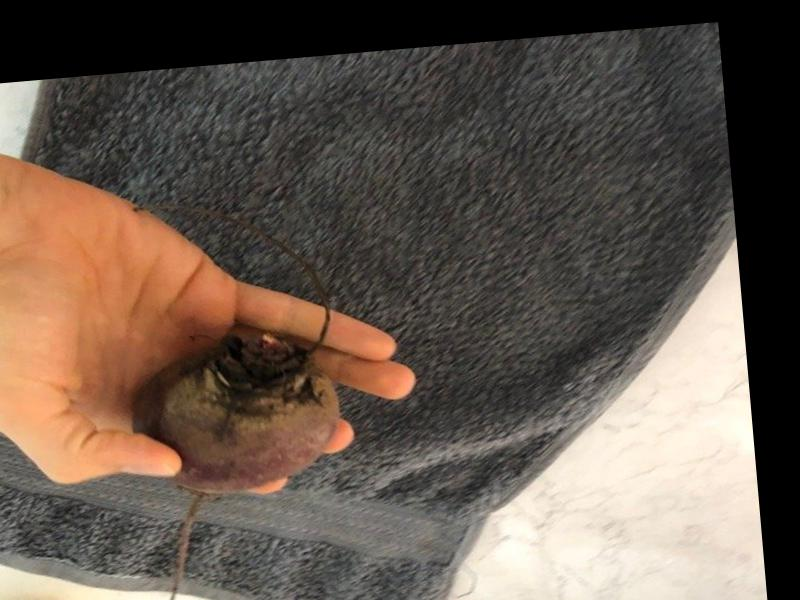Beet: (124, 320, 351, 600)
